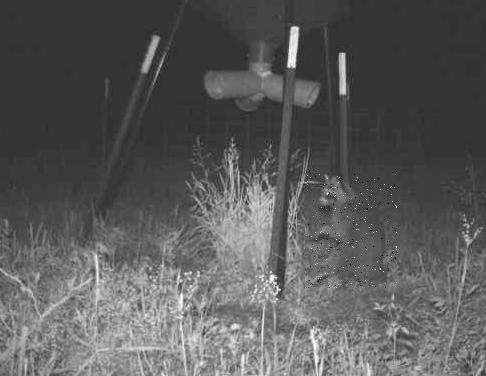Raccoon: (306, 174, 396, 289)
